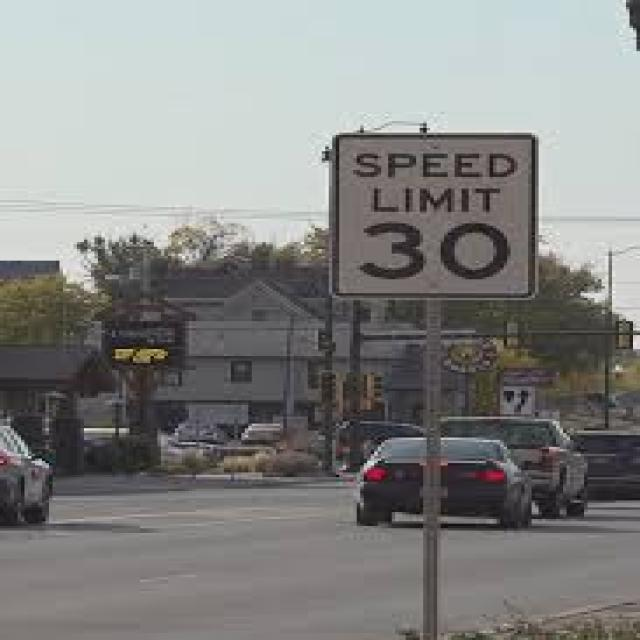speedLimit35: (332, 132, 535, 302)
